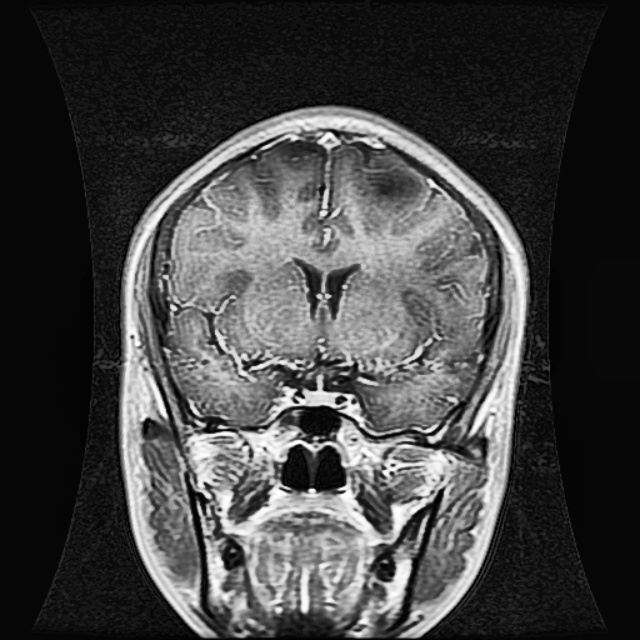Meningioma: (357, 149, 427, 220)
